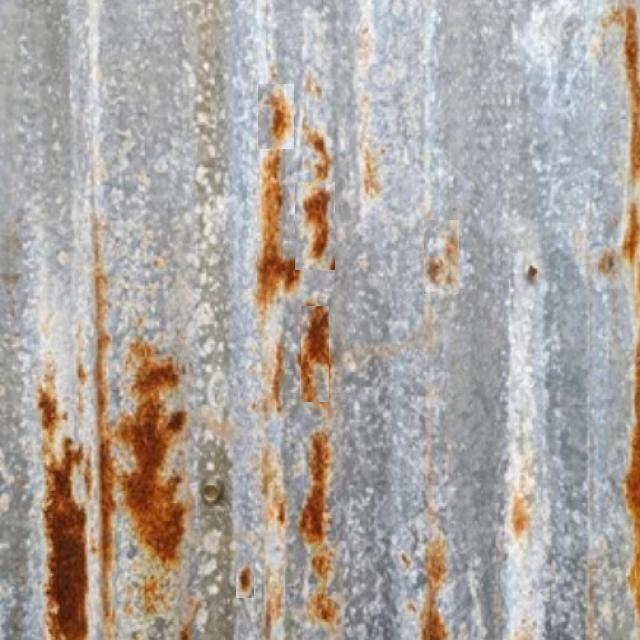Corrosion: (135, 347, 186, 564), (92, 239, 115, 624), (44, 440, 85, 640), (256, 149, 296, 310), (616, 6, 640, 184), (627, 343, 640, 624), (300, 432, 331, 546), (299, 305, 332, 408), (259, 85, 293, 144), (304, 188, 331, 260), (41, 377, 67, 444)
